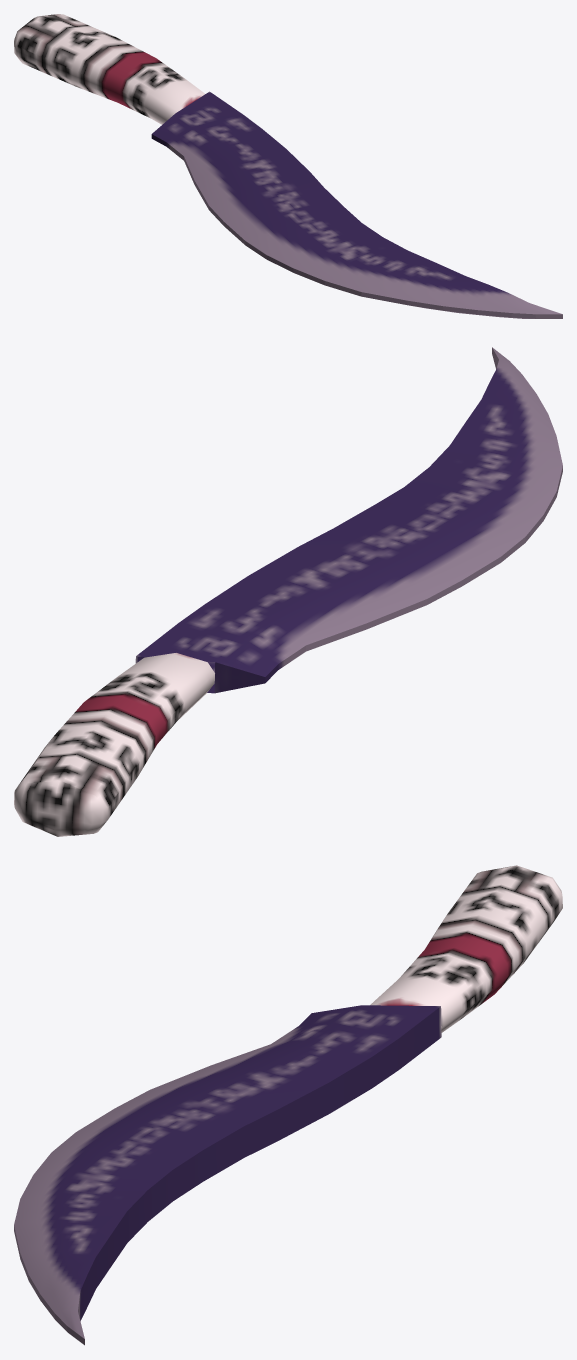
File: BLADE.fbx
The picture shows the model from 3 angles, top to bottom: view 1: azimuth 30°, elevation 25°; view 2: azimuth 150°, elevation 25°; view 3: azimuth 330°, elevation 25°; orthographic projection. The views are drawn at different scales.
Visible parts, largest first — view 1: ashamesh_VER_gs:polySurface69.001; view 2: ashamesh_VER_gs:polySurface69.001; view 3: ashamesh_VER_gs:polySurface69.001.
Boxes of the visible parts, <box> form: ashamesh_VER_gs:polySurface69.001: <box>14,14,562,318</box>; ashamesh_VER_gs:polySurface69.001: <box>14,347,562,836</box>; ashamesh_VER_gs:polySurface69.001: <box>14,865,562,1345</box>.
Size of the model in its own units: 293 by 17.19 by 64.04.
